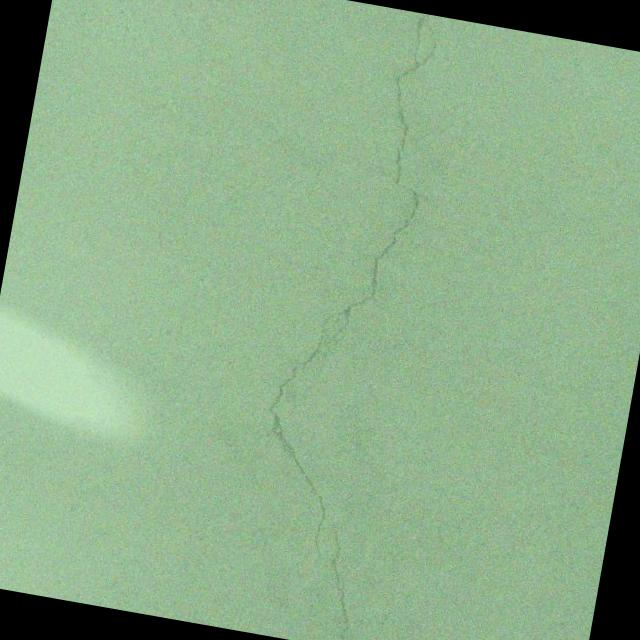crack: (243, 0, 452, 563), (309, 515, 370, 640)
